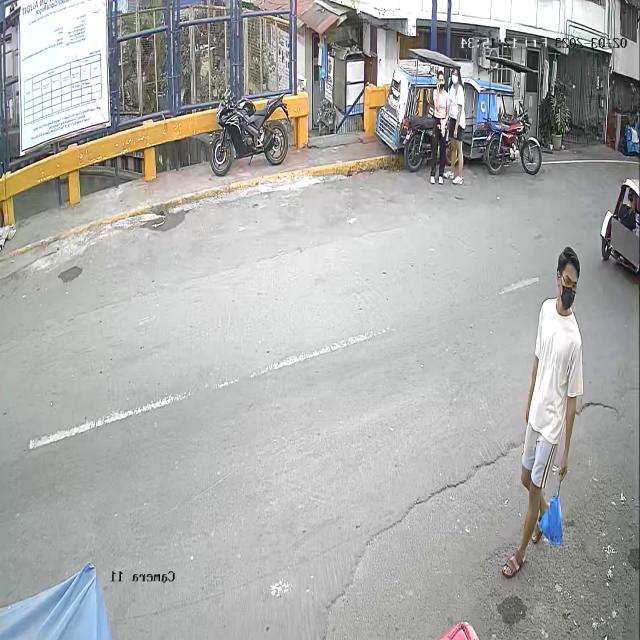garbage_dumping: (537, 462, 570, 550)
